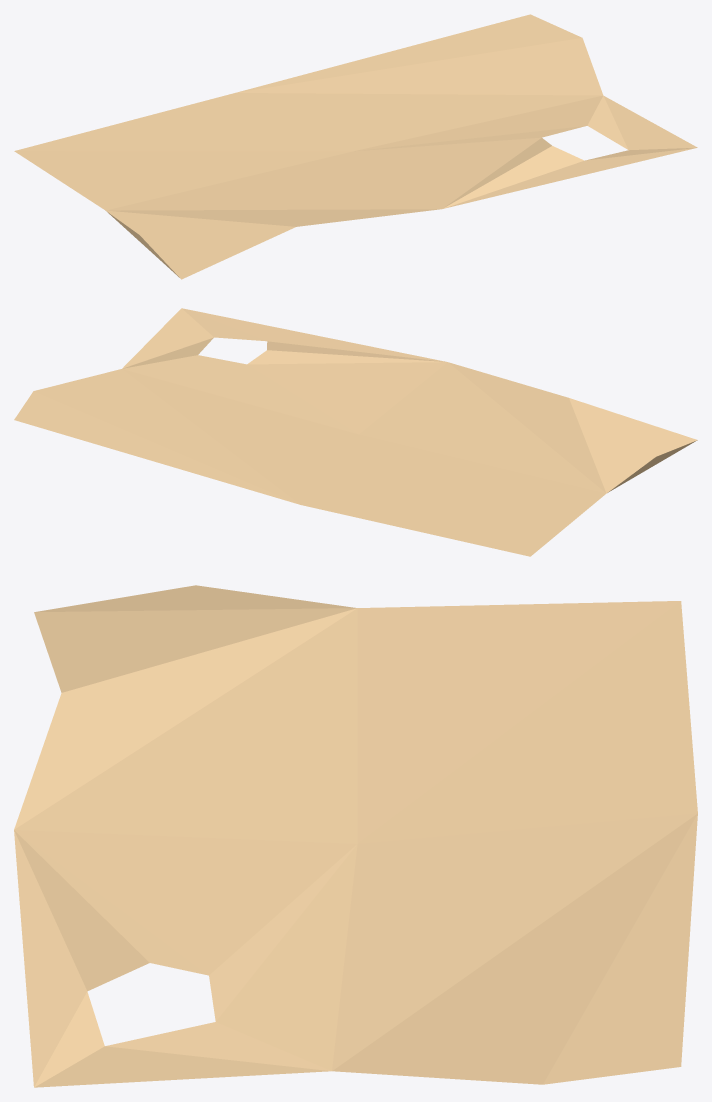
File: Prop_Paper_Parchment_Map_Letter_Worn_02.FBX
3 renders of one model, top to bottom at view 1: azimuth 30°, elevation 25°; view 2: azimuth 150°, elevation 25°; view 3: azimuth 270°, elevation 25°, orthographic. The views are drawn at different scales.
Visible parts, largest first — view 1: Prop_Paper_Parchment_Map_Letter_Worn_02; view 2: Prop_Paper_Parchment_Map_Letter_Worn_02; view 3: Prop_Paper_Parchment_Map_Letter_Worn_02.
Boxes of the visible parts, x1,y1,x2,y2 form: Prop_Paper_Parchment_Map_Letter_Worn_02: (14, 14, 697, 279); Prop_Paper_Parchment_Map_Letter_Worn_02: (14, 308, 697, 556); Prop_Paper_Parchment_Map_Letter_Worn_02: (14, 585, 697, 1087).
Size of the model in its own units: 900 by 28.6 by 518.
